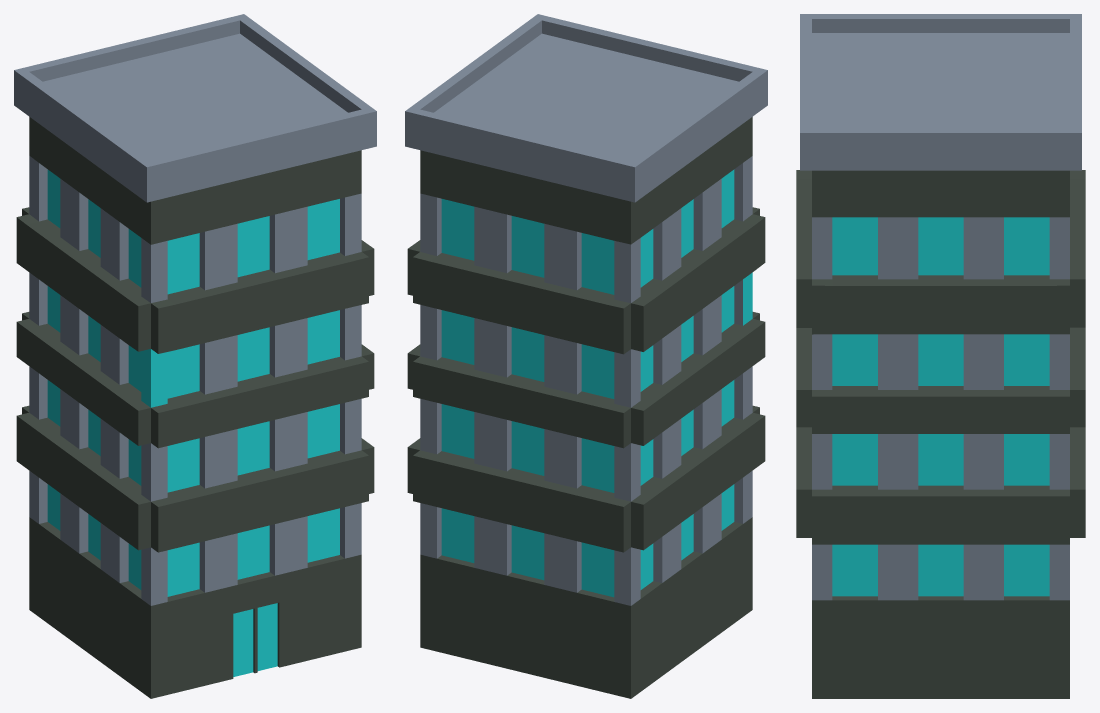
File: Building2_2.fbx
3 renders of one model, left to right at view 1: azimuth 30°, elevation 25°; view 2: azimuth 150°, elevation 25°; view 3: azimuth 270°, elevation 25°, orthographic. The views are drawn at different scales.
Parts seen in each view (by area): view 1: Building2_2; view 2: Building2_2; view 3: Building2_2.
Boxes of the visible parts, x1,y1,x2,y2 form: Building2_2: [14, 14, 376, 698]; Building2_2: [405, 14, 767, 698]; Building2_2: [796, 14, 1085, 698].
Size of the model in its own units: 1347 by 2937 by 1347.
